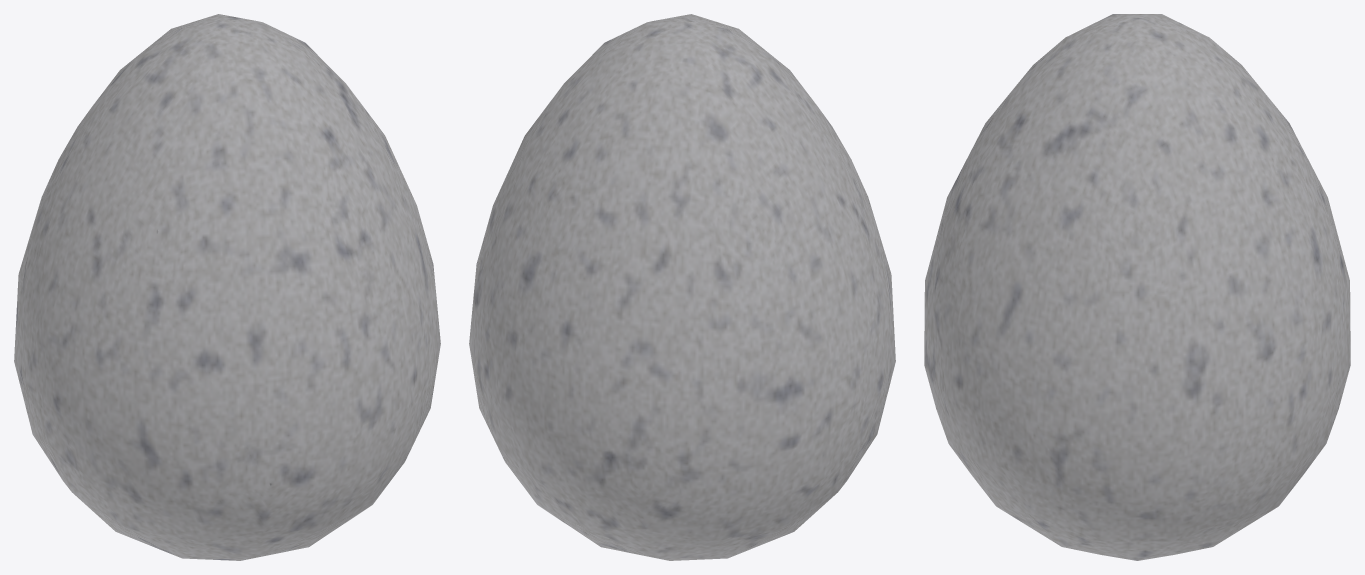
Rendered from pigeon.glb.
The picture shows the model from 3 angles, left to right: view 1: azimuth 30°, elevation 25°; view 2: azimuth 150°, elevation 25°; view 3: azimuth 270°, elevation 25°; orthographic projection.
Parts seen in each view (by area): view 1: Icosphere.001; view 2: Icosphere.001; view 3: Icosphere.001.
Part boxes in pixels (box(x1,y1,x2,y2)): Icosphere.001: box(14, 14, 440, 560); Icosphere.001: box(469, 14, 895, 560); Icosphere.001: box(924, 14, 1350, 560).
Bounding box in the file's own units: 2.96 × 4 × 2.96.
1 material, 1 textured.
